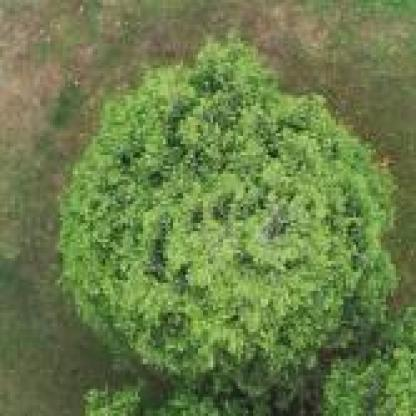Coniferous Tree: (69, 22, 387, 389)
